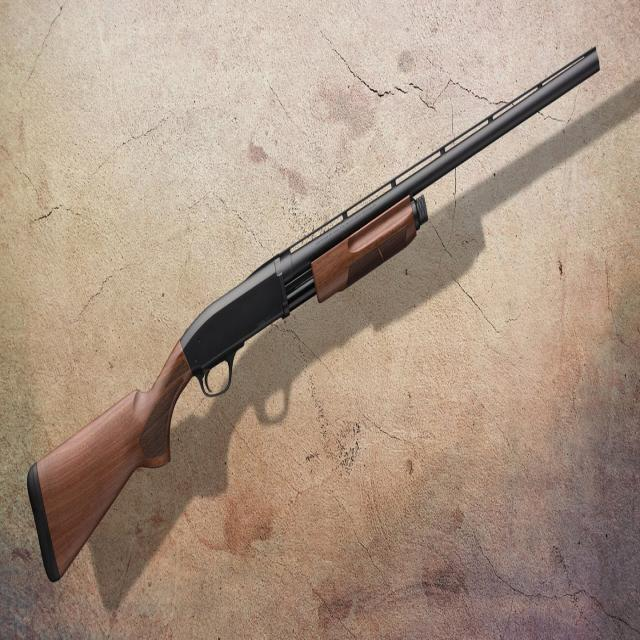ShotGun: (28, 51, 602, 583)
